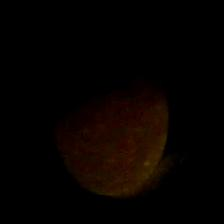fertile: (52, 50, 171, 198)
